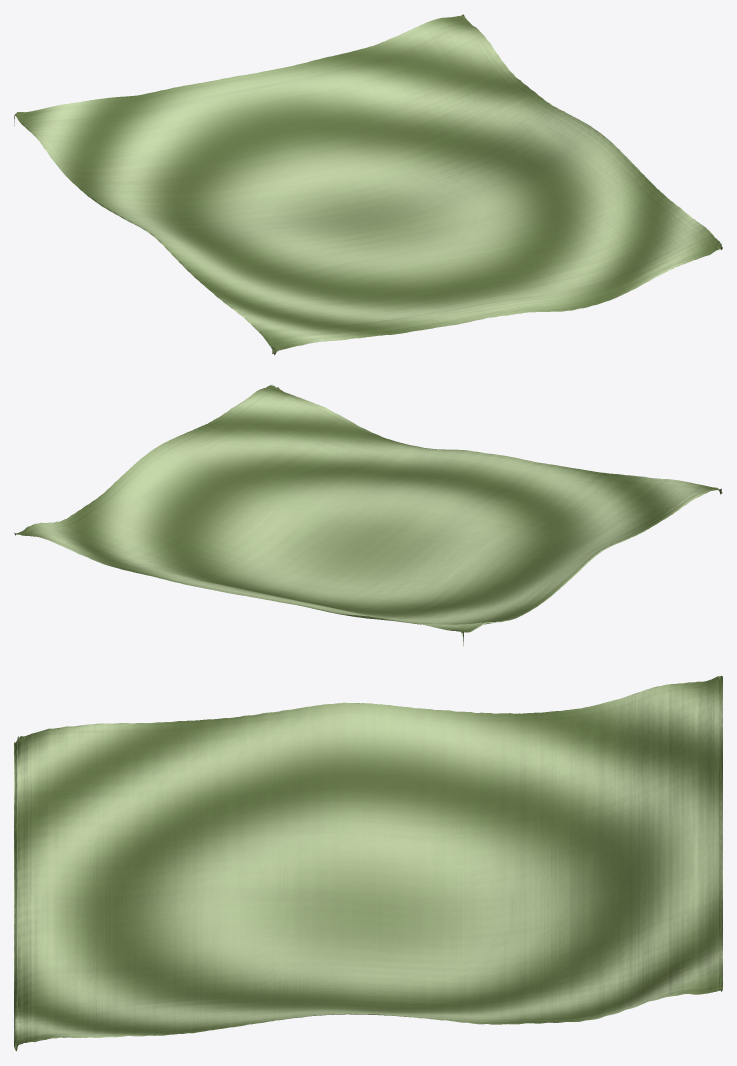
File: terrain-lod0.glb
3 views of the same model, one above another, from view 1: azimuth 30°, elevation 25°; view 2: azimuth 150°, elevation 25°; view 3: azimuth 270°, elevation 25° (orthographic). The views are drawn at different scales.
Visible parts, largest first — view 1: geometry_0; view 2: geometry_0; view 3: geometry_0.
Part boxes in pixels (<box>): geometry_0: <box>14,14,722,355</box>; geometry_0: <box>14,385,722,645</box>; geometry_0: <box>14,675,722,1051</box>.
Size of the model in its own units: 511 by 88.14 by 511.
1 material, 1 textured.
